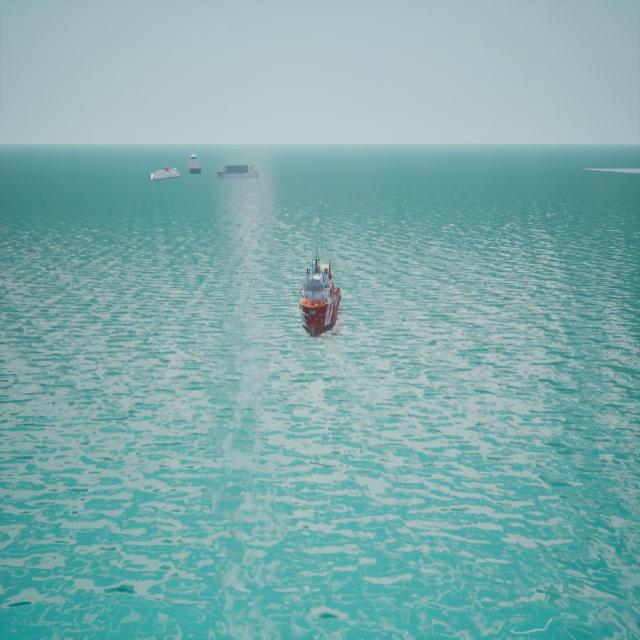tug boat: (301, 261, 343, 338)
